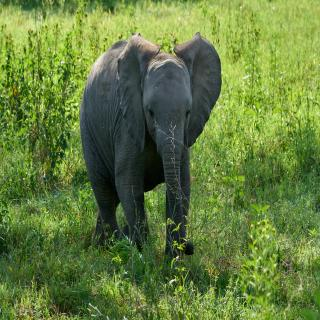Elephant: (77, 28, 227, 279)
